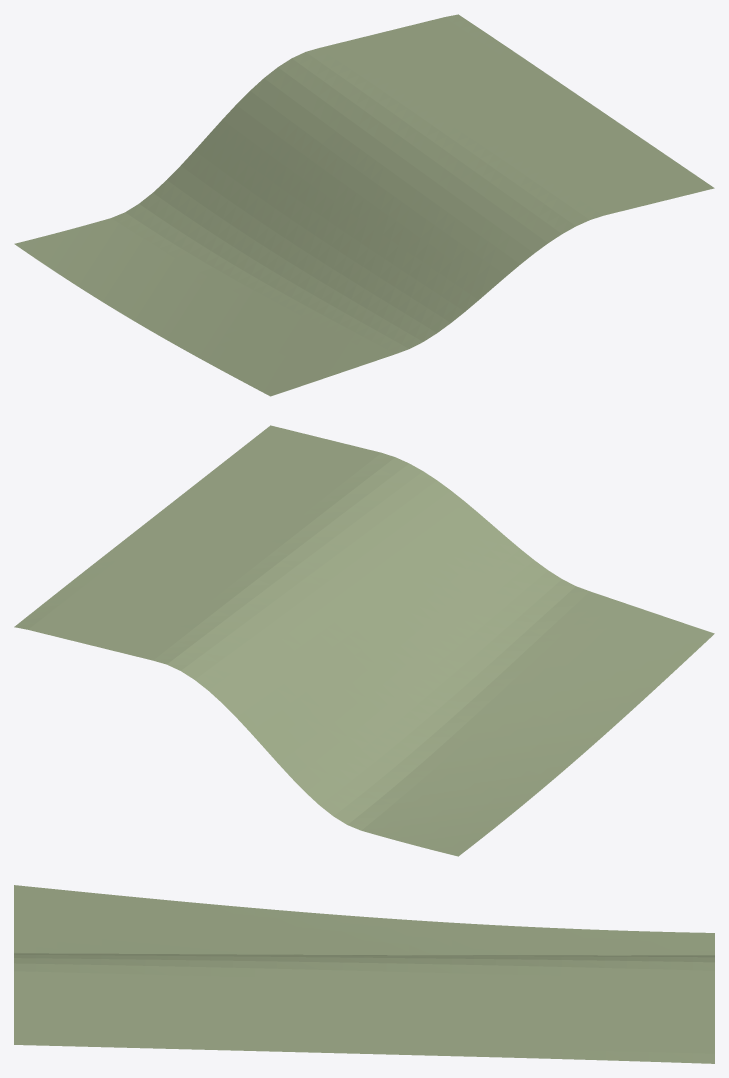
Rendered from alpine-2-7.glb.
3 renders of one model, top to bottom at view 1: azimuth 30°, elevation 25°; view 2: azimuth 150°, elevation 25°; view 3: azimuth 270°, elevation 25°, orthographic. The views are drawn at different scales.
Parts seen in each view (by area): view 1: alpine-2-7; view 2: alpine-2-7; view 3: alpine-2-7.
Part boxes in pixels (x1,y1,x2,y2): alpine-2-7: (14, 14, 714, 396); alpine-2-7: (14, 425, 714, 856); alpine-2-7: (14, 885, 714, 1063).
Size of the model in its own units: 256 by 74.29 by 256.
